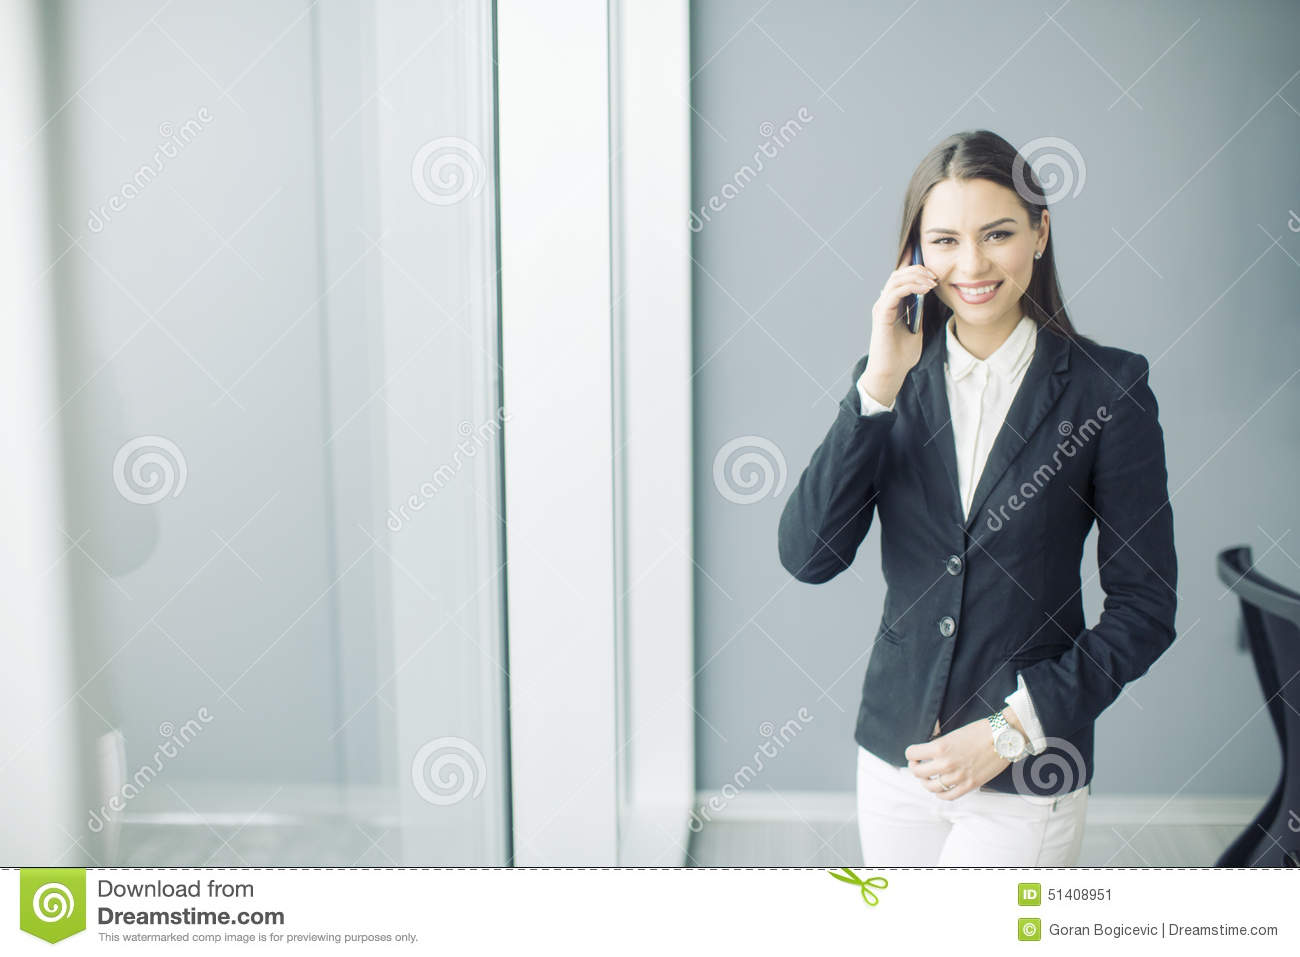phone: (905, 237, 929, 335)
talk: (863, 214, 1027, 414)
